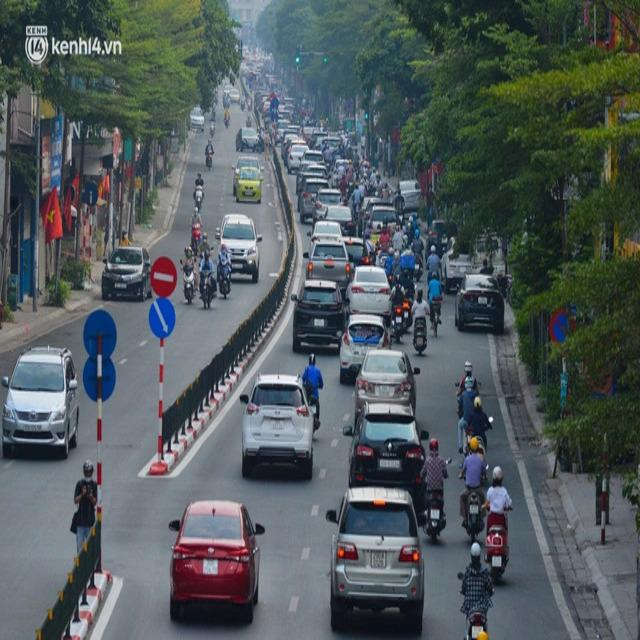car: (324, 486, 424, 633), (168, 501, 268, 622), (341, 402, 428, 517), (0, 346, 81, 464), (240, 373, 313, 482), (353, 347, 421, 421), (288, 280, 348, 350), (99, 244, 154, 301), (338, 315, 386, 378), (456, 274, 502, 335), (218, 215, 260, 280), (345, 264, 393, 319), (304, 237, 349, 287), (234, 165, 262, 204)
motorcycle: (483, 525, 511, 584), (458, 483, 484, 546), (422, 487, 447, 544), (461, 602, 492, 640), (196, 268, 216, 310), (410, 314, 430, 356), (180, 264, 198, 310), (216, 256, 232, 296), (190, 182, 208, 212)
